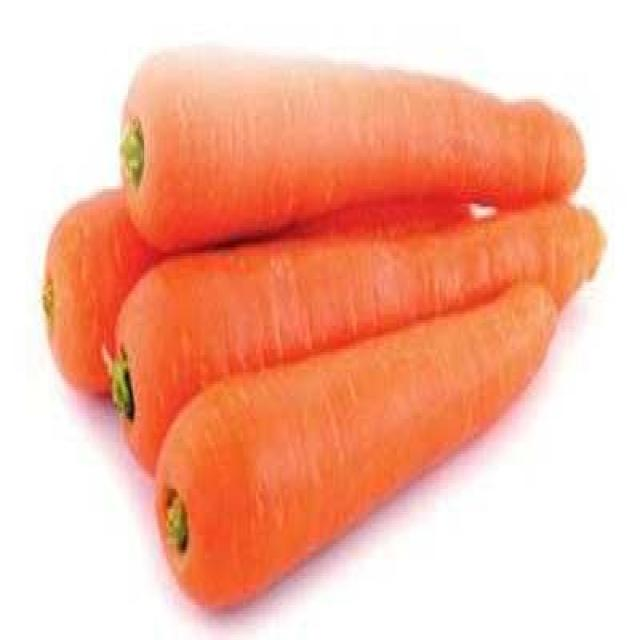carrots: (158, 296, 576, 623), (115, 41, 590, 209)
